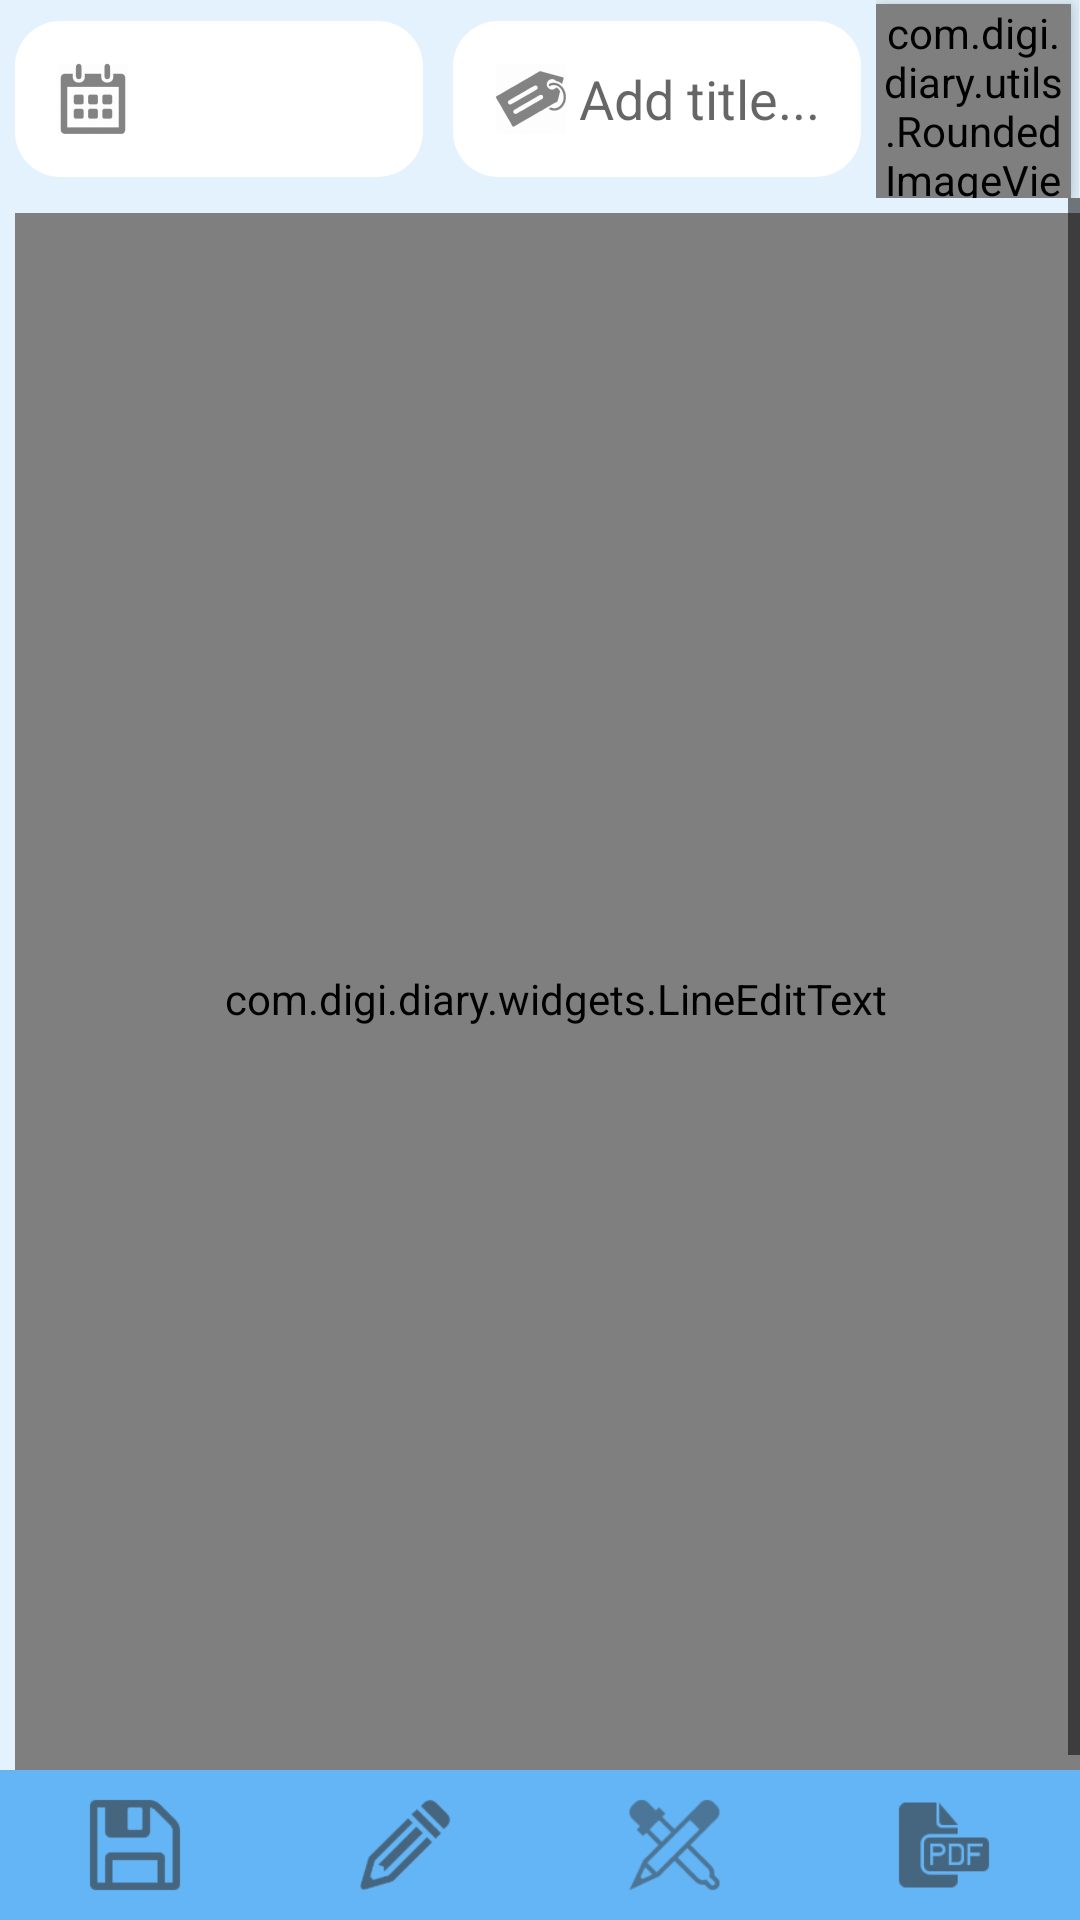

Icons on this 1080×1920 Android screen, each with its box as (x1, y1, x2, y2):
appearance: (629, 1800, 720, 1890)
save: (90, 1800, 180, 1890)
